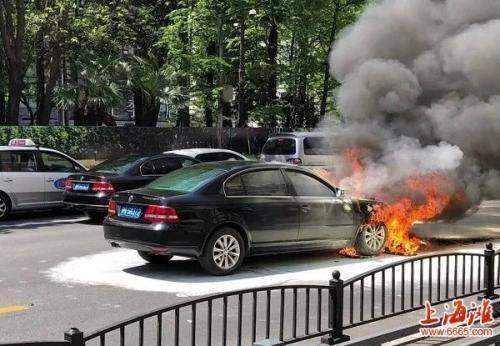fire: (335, 137, 433, 256)
